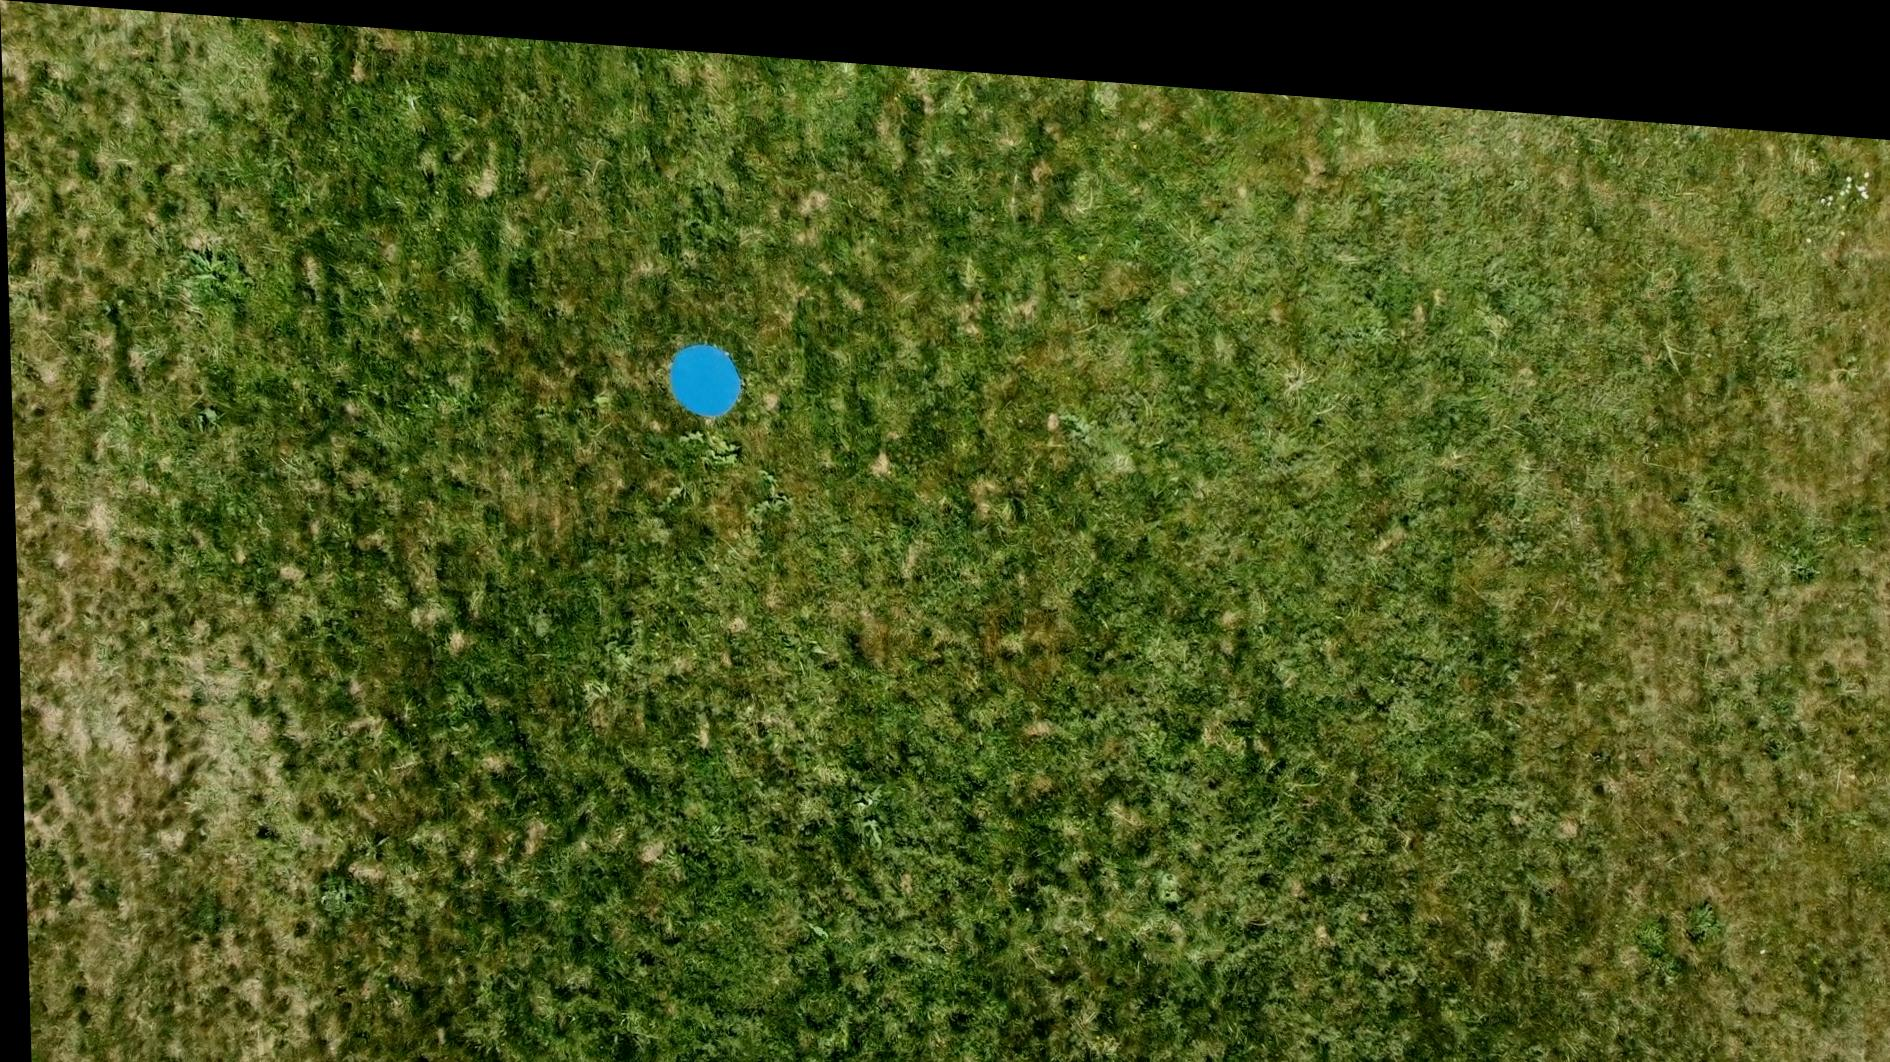Blue: (665, 328, 744, 410)
